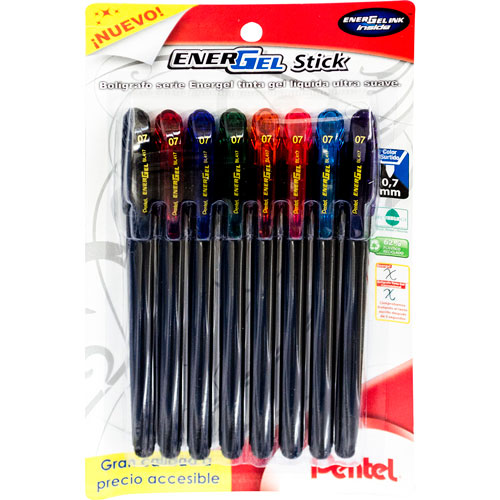Boligrafo: (118, 107, 160, 454), (186, 108, 218, 460), (221, 108, 247, 464), (249, 105, 274, 460), (158, 109, 180, 459)
